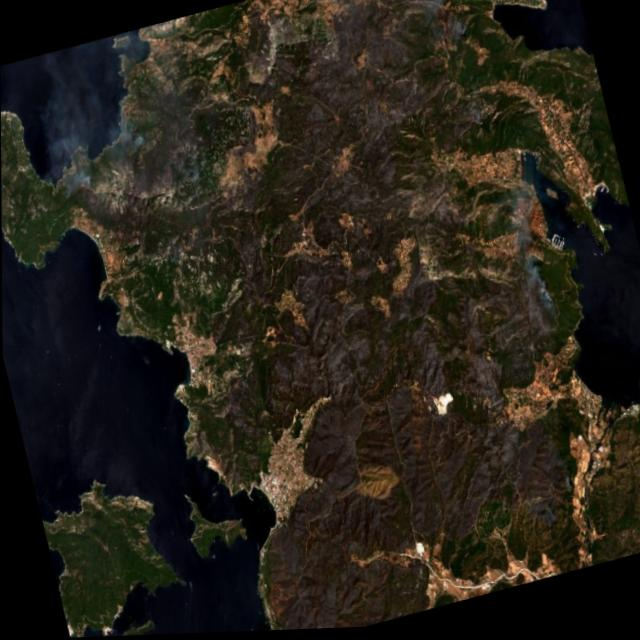fire: (47, 142, 107, 222), (531, 272, 569, 337)
